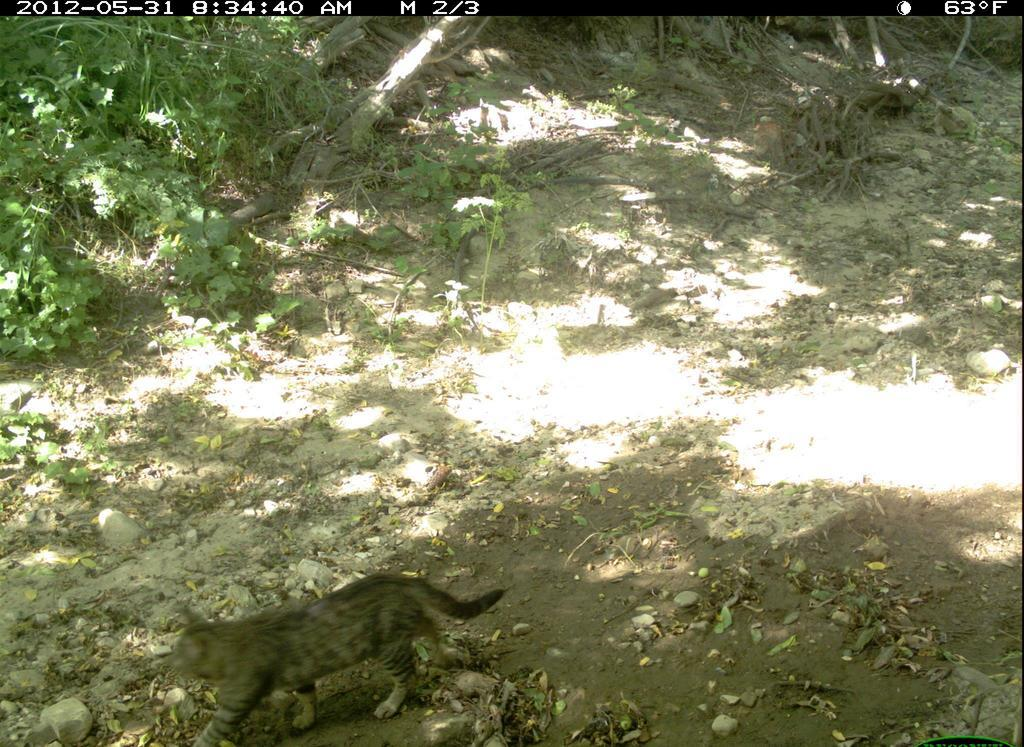cat: (164, 559, 510, 747)
